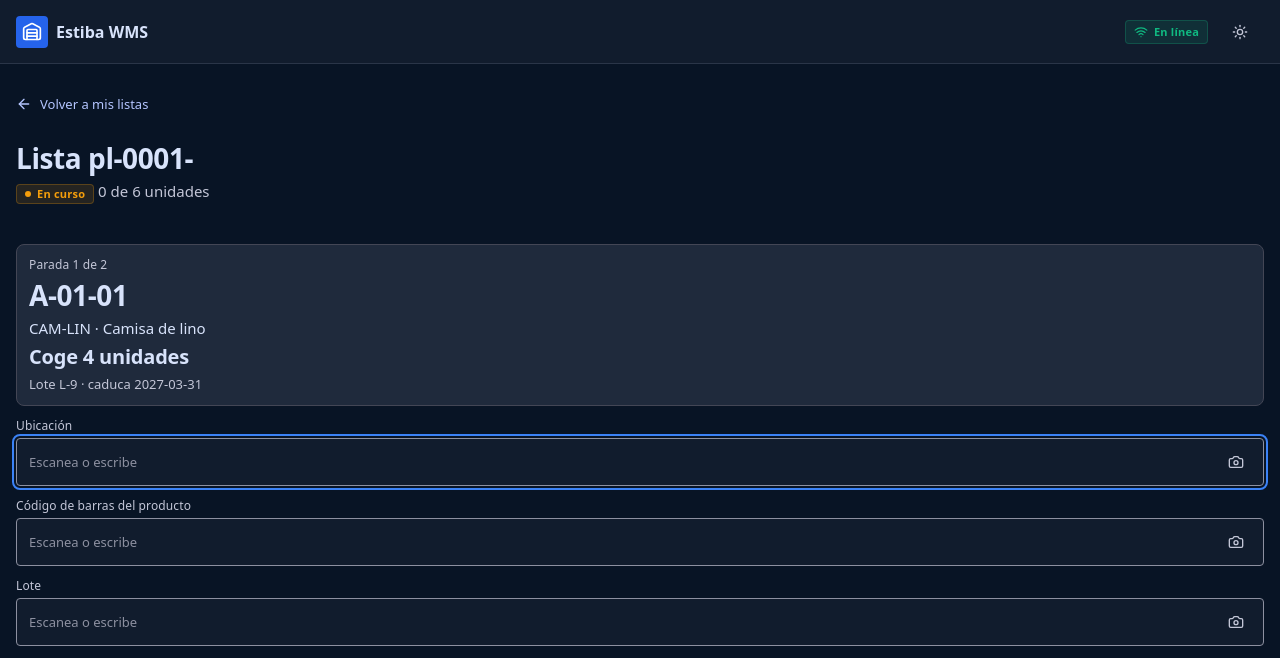
Test: PickListPage › shows what the API says when it does not accept the scan
The width and height of the screenshot is (1280, 658).
Check: the text "A-01-01" is shown, box [29,276,128,314]
Type "A-01-01" into the field labelled "Ubicación" at coordinates (640, 462), box [16,438,1264,486]
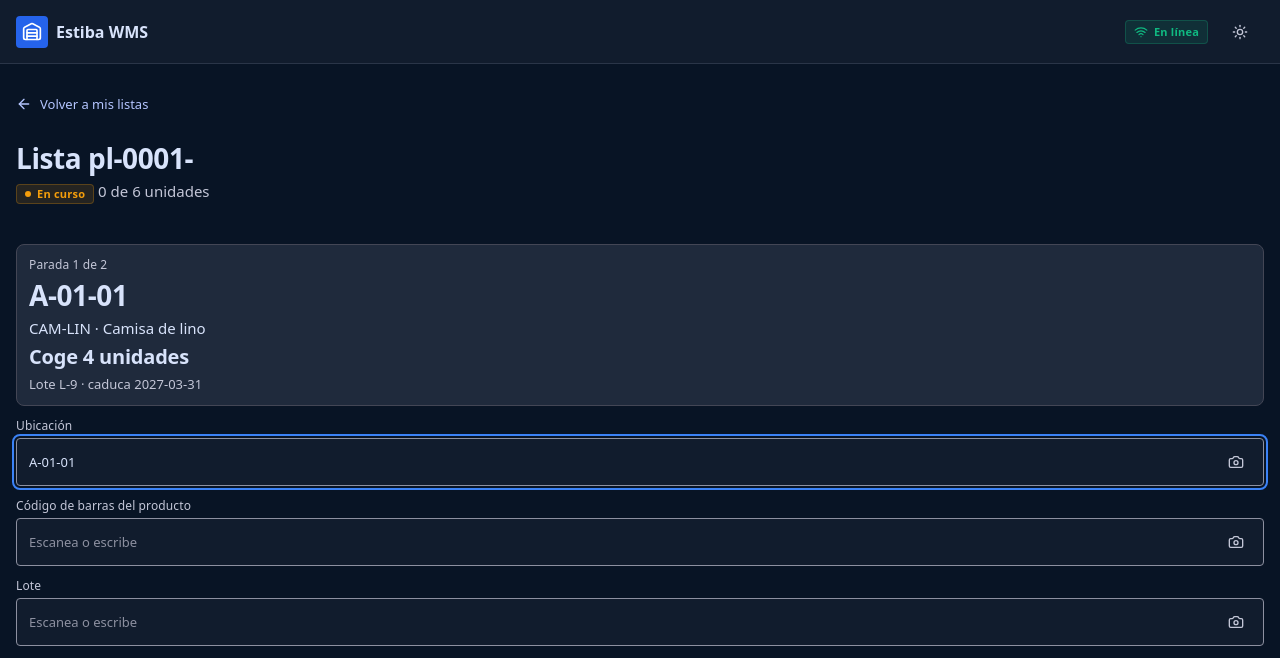
Type "8412345678900" into the field labelled "Código de barras del producto" at coordinates (640, 542), box [16,518,1264,566]
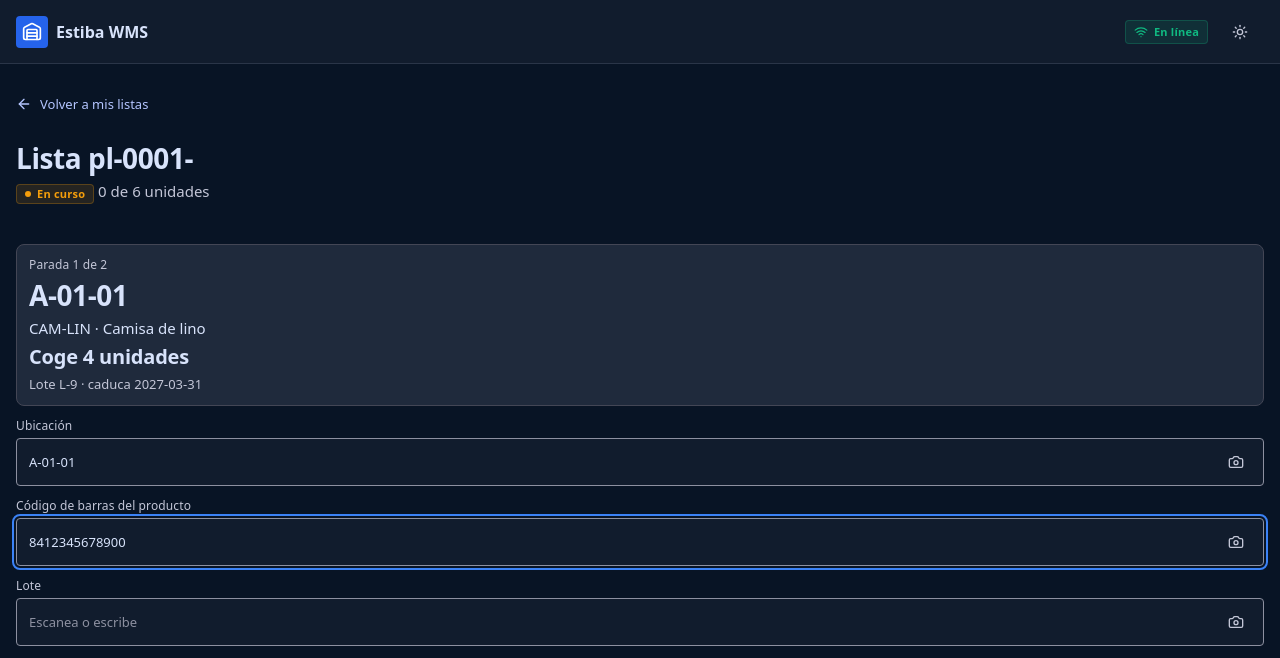
Type "L-9" into the field labelled "Lote" at coordinates (640, 622), box [16,598,1264,646]
(page scrolled)
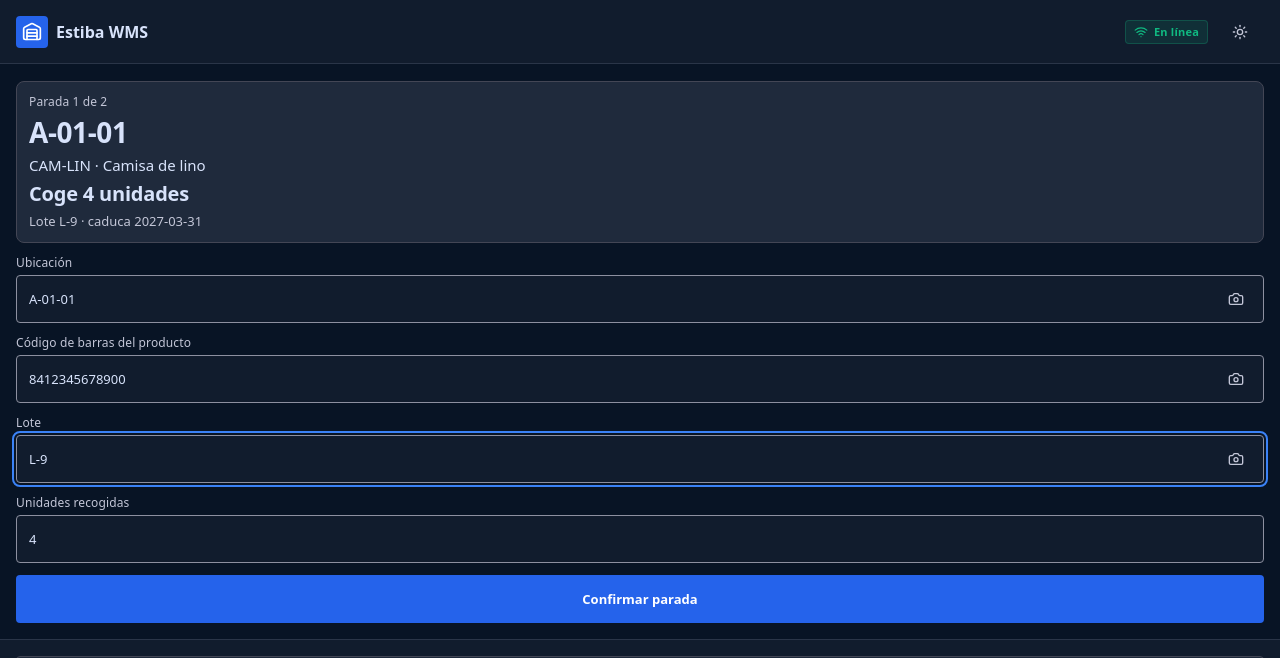
Click the button "Confirmar parada" at coordinates (640, 599), box [16,575,1264,623]
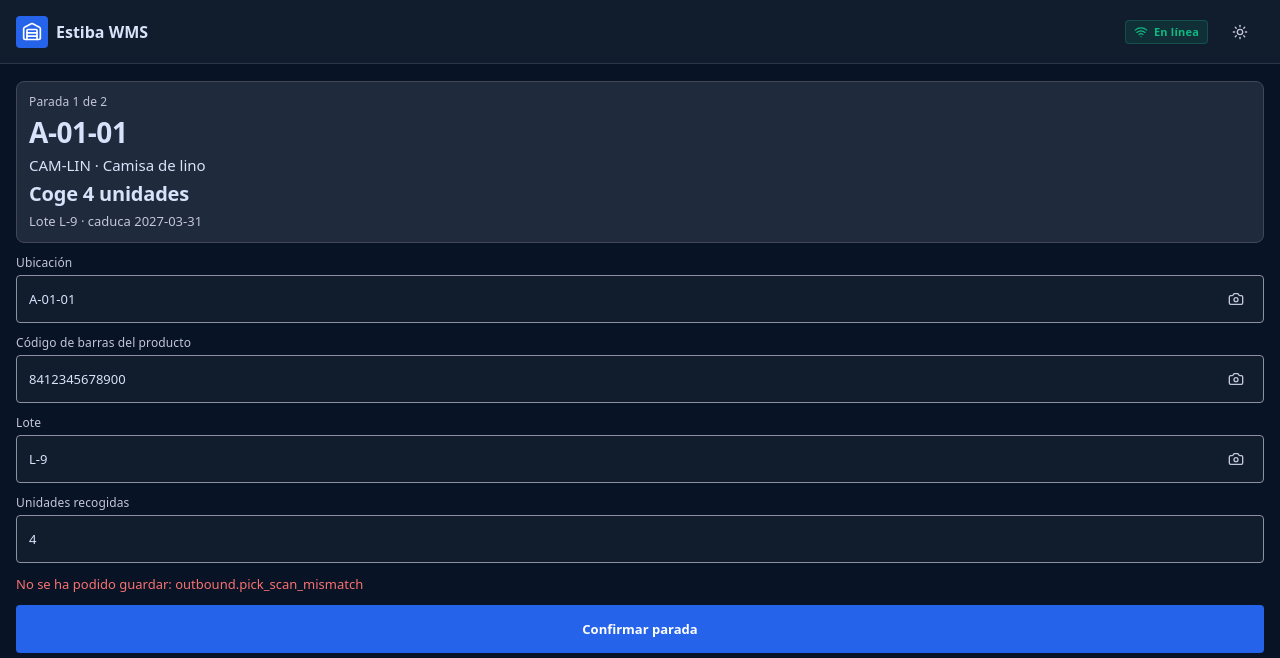
Check: the message "No se ha podido guardar: outbound.pick_scan_mismatch" is shown, box [16,575,363,593]
